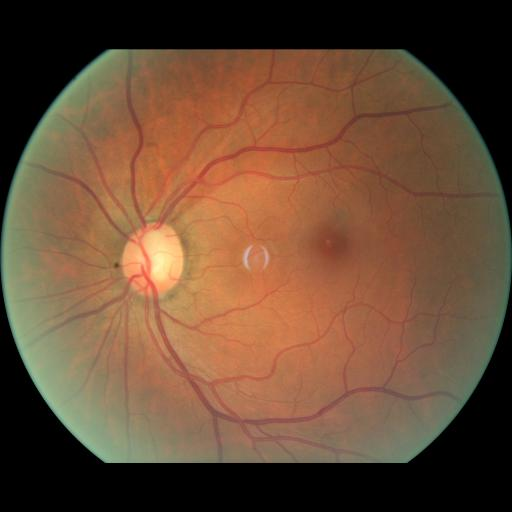Optic Cup: (140, 236, 170, 280)
Optic Disc: (122, 223, 183, 296)
